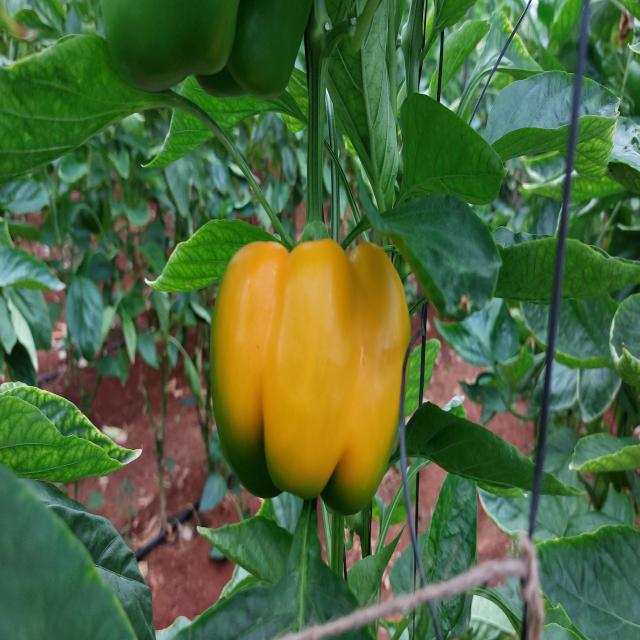Yellow-Ready-to-Harvest: (218, 233, 413, 494)
